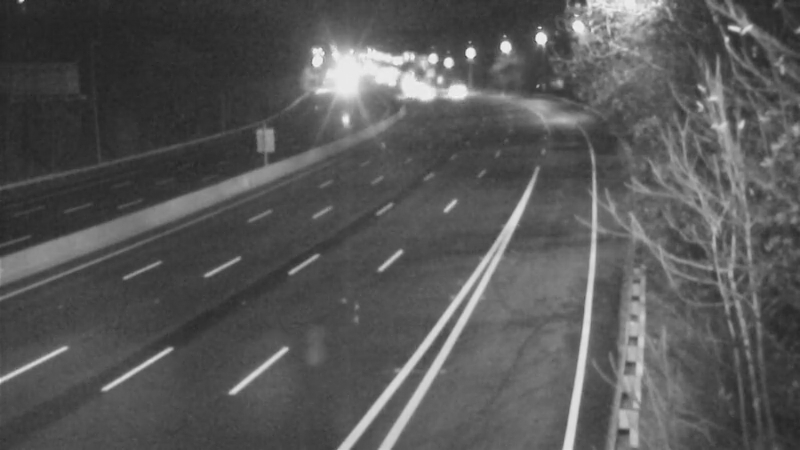vehicle: (434, 64, 484, 114), (373, 71, 423, 121), (401, 67, 451, 117)
